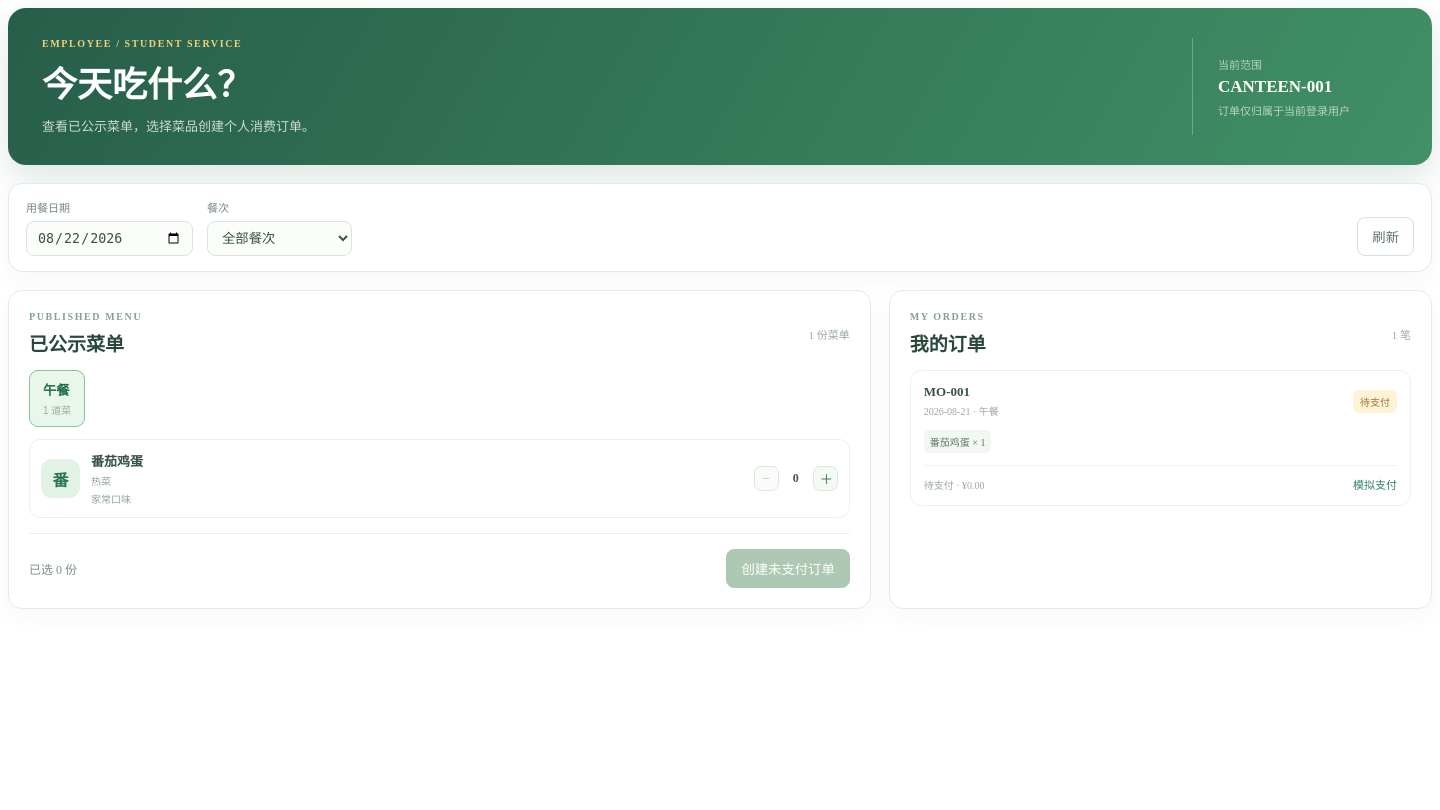
Scenario: DinerWorkspace › refreshes the order list when study mock payment reports an error
Click the button with aria-label "模拟支付" at (1375, 484), box [1353, 476, 1397, 492]
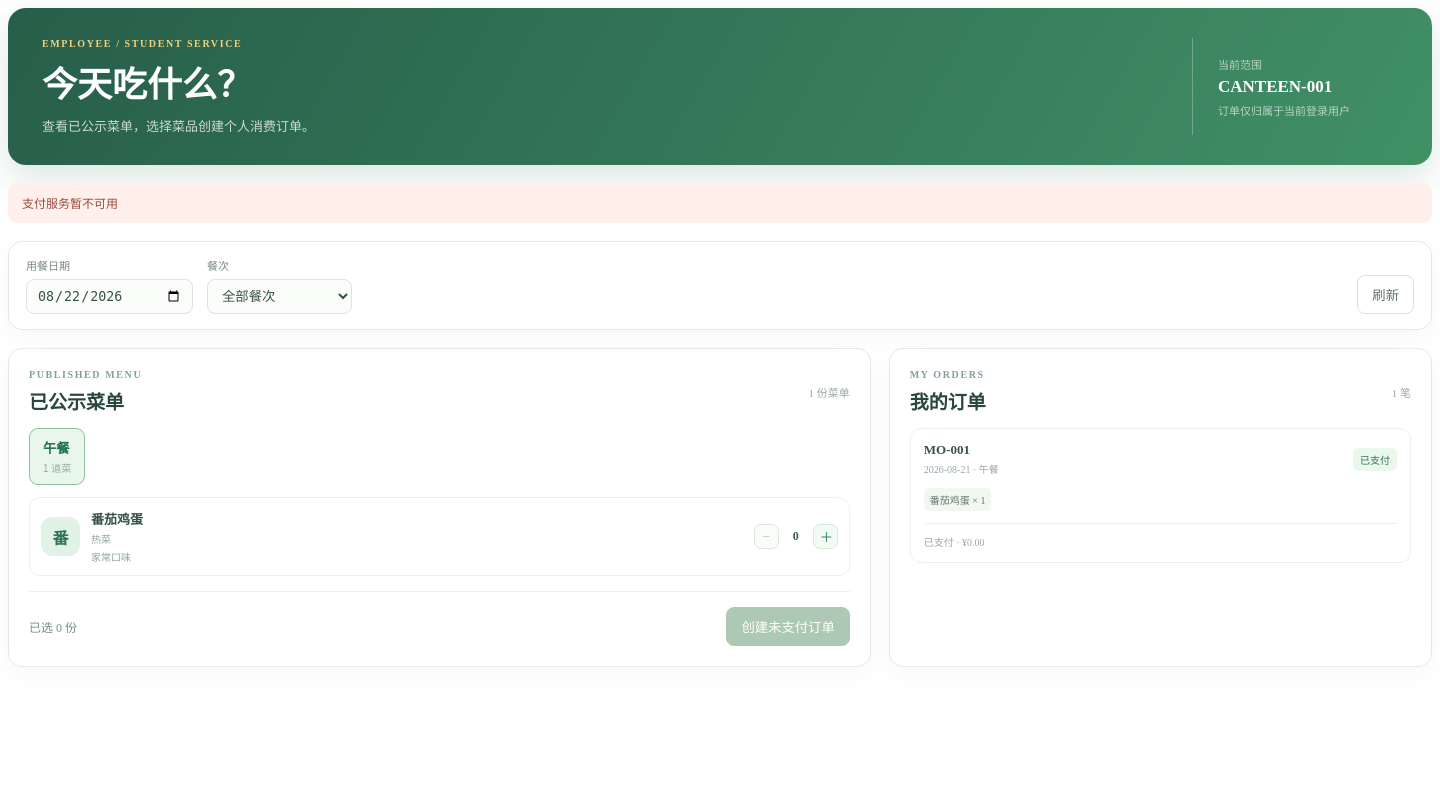
Expected: the text "支付服务暂不可用" is shown, [8, 183, 1432, 223]
Expected: the text "已支付" is shown, [1353, 448, 1397, 471]
